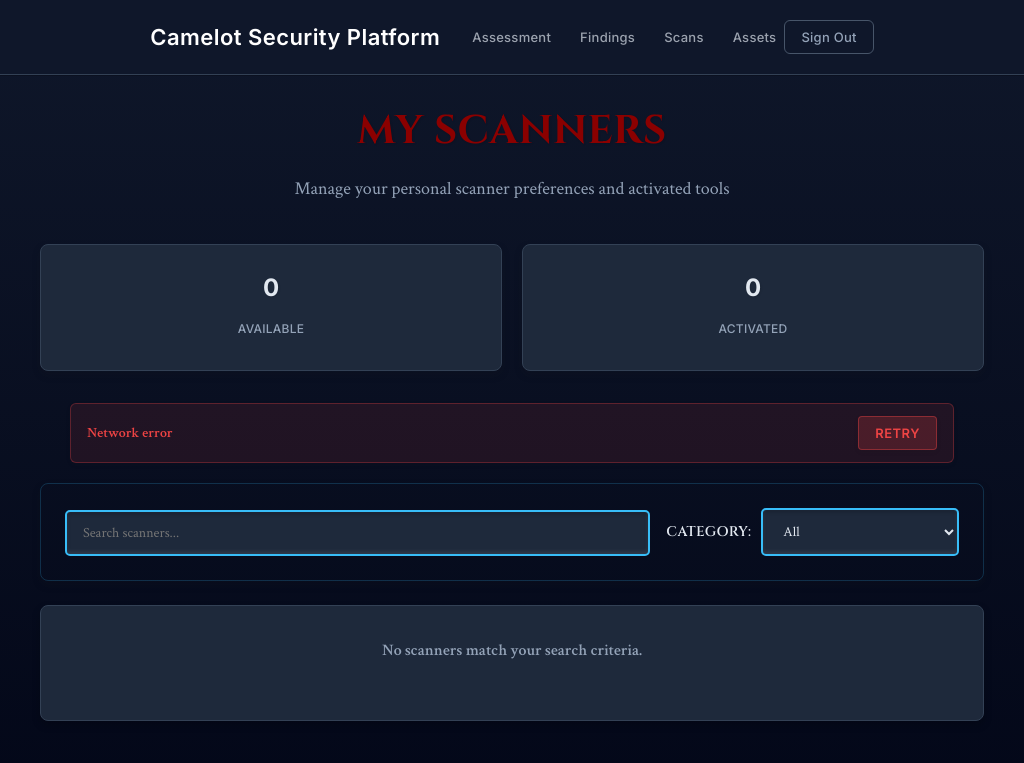
Test: MyScanners Component - Button Interactions › UI-MYSCAN-001: should reload data when retry button clicked
This screenshot has width=1024, height=763.
Expected: the text "Network error" is shown, [87,422,173,445]
Click the button "Retry" at point(898, 433), box [858,416,937,450]
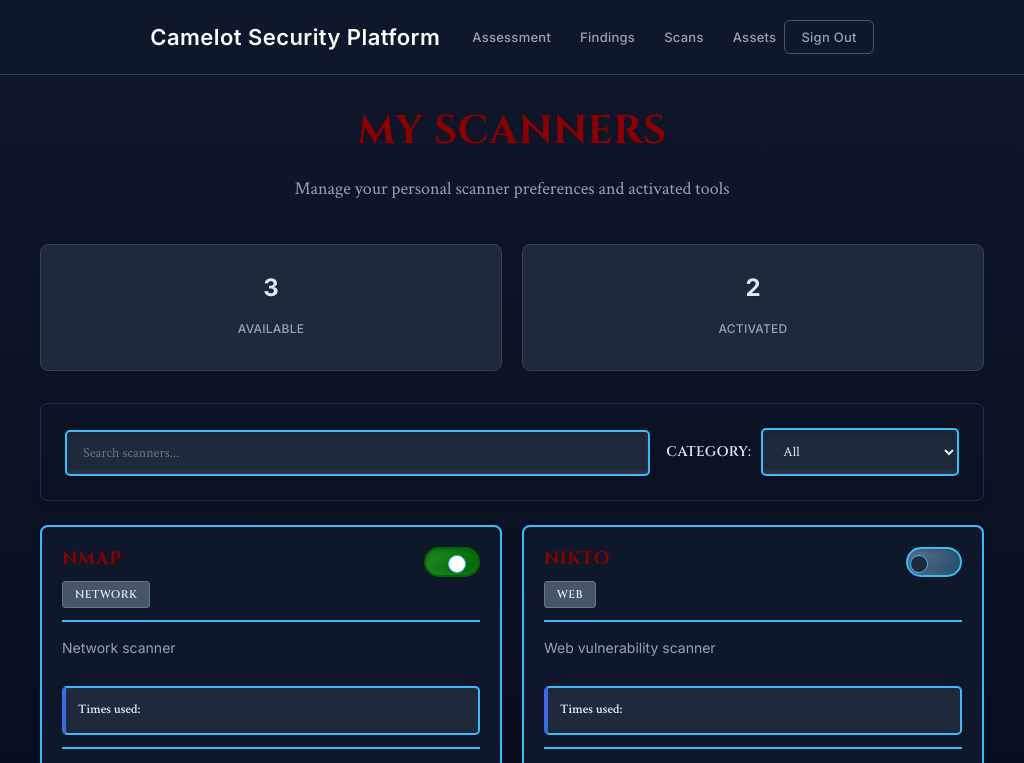
Now the heading "Nmap" is shown, box [62,546,122,571]
Now the heading "Nikto" is shown, box [544,547,610,571]
